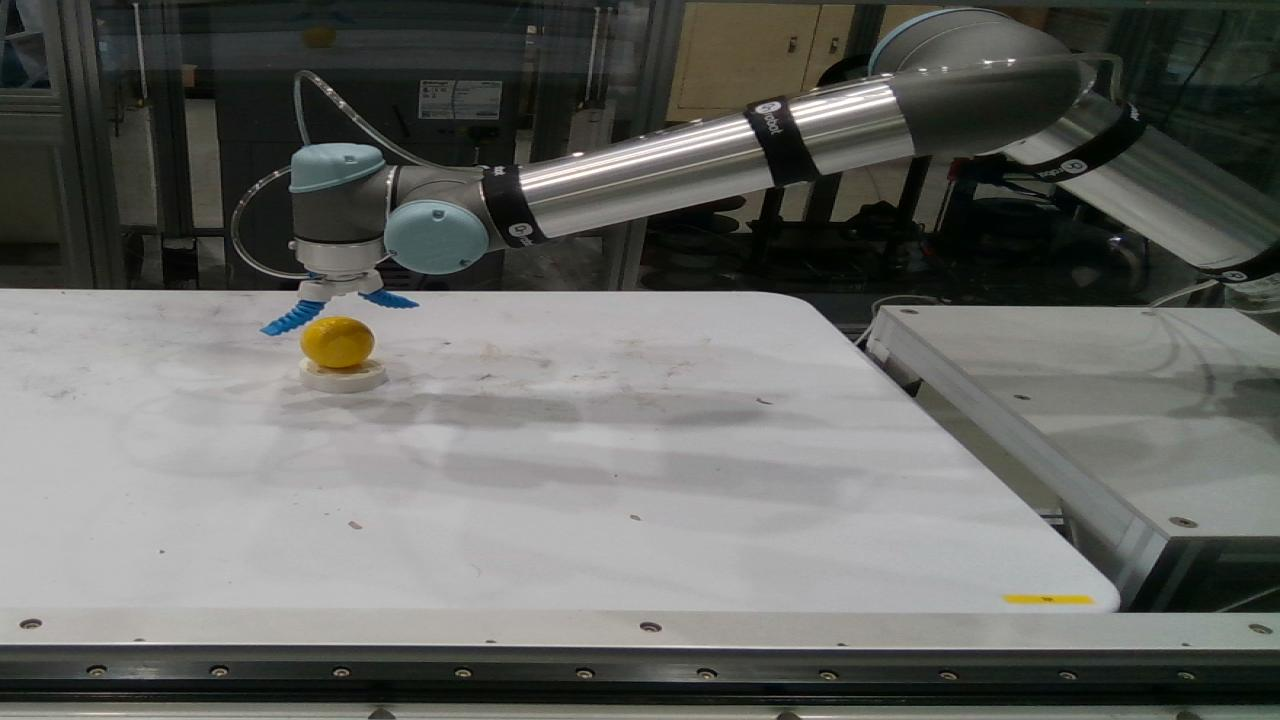UR5: (291, 9, 1279, 335)
gripper_left: (359, 288, 420, 309)
gripper_right: (259, 299, 326, 337)
target: (299, 350, 387, 393), (301, 316, 375, 367)
